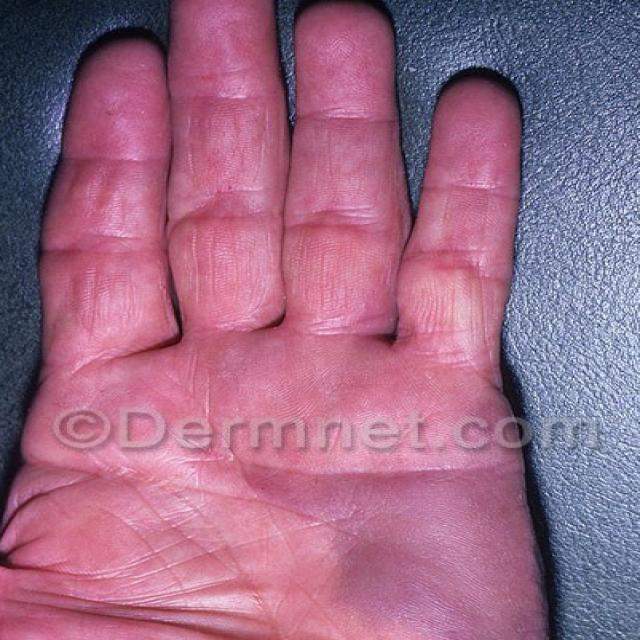Vascular Tumors: (262, 454, 538, 640)
